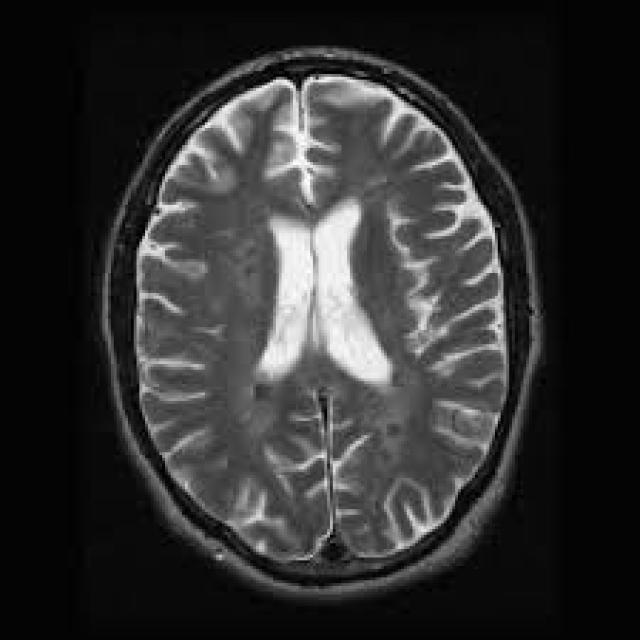No_Tumor: (102, 48, 541, 594)
